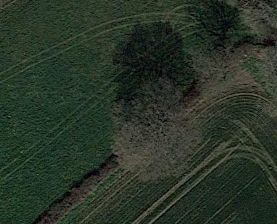tree: (105, 80, 205, 185)
